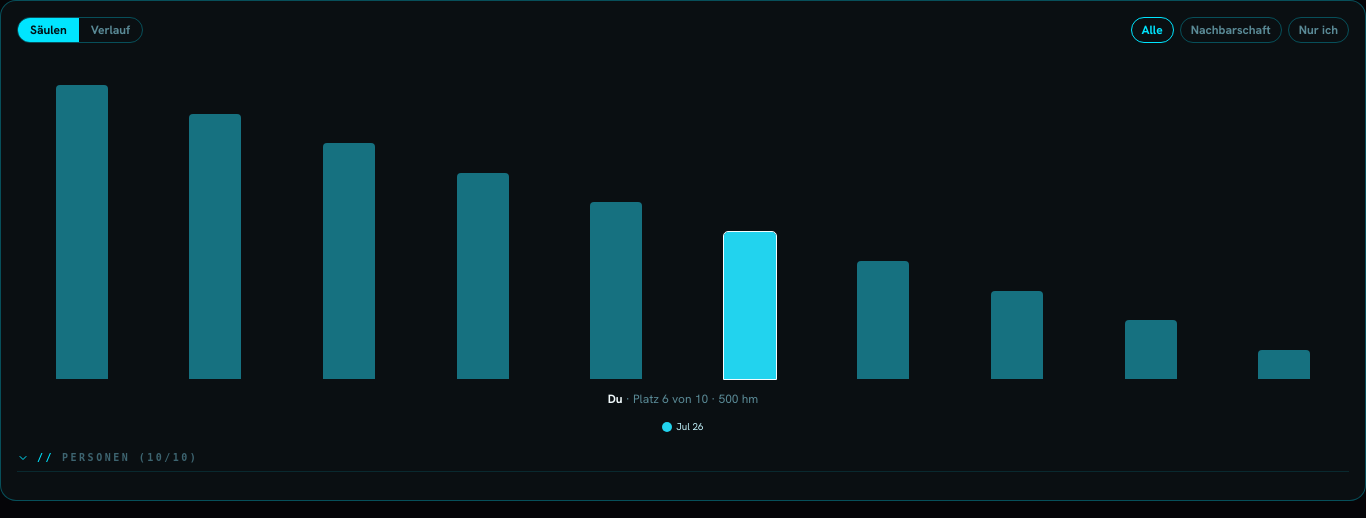
Test: Hoehenmeter › engt über das Nachbarschafts-Preset auf sechs Personen ein
Expected: the text "Du · Platz 6 von 10 · 500 hm" is shown, [608,391,758,407]
Click the button "Nachbarschaft". click: (1231, 30)
box: [1180,17,1282,43]
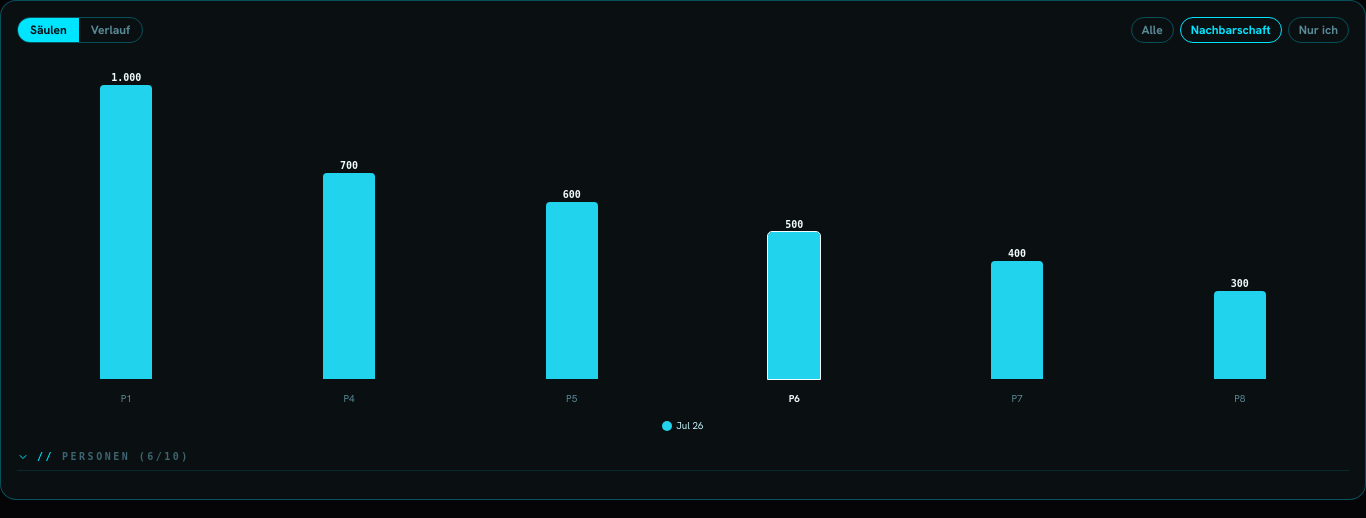
Expected: the button "// Personen (6/10)" is shown, [17,449,1349,471]
